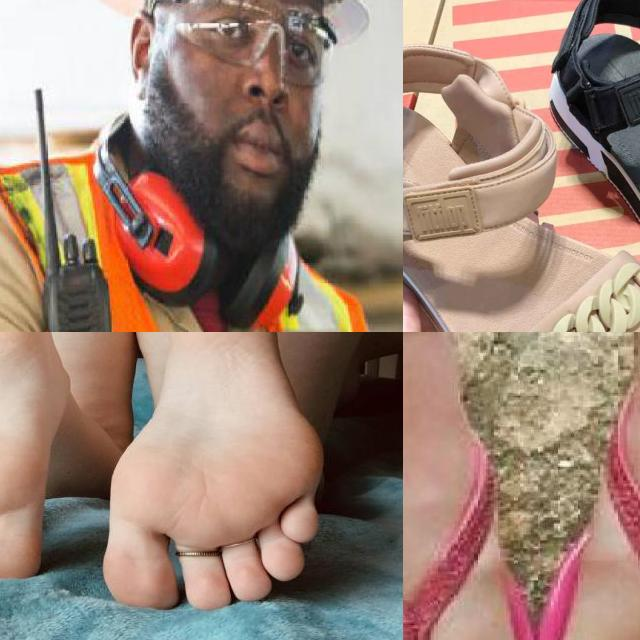Barefoots: (91, 332, 331, 619), (403, 332, 546, 640), (545, 332, 640, 640), (0, 332, 67, 587)
Ear-protection: (81, 106, 319, 331)
Sandals: (403, 15, 640, 332), (527, 0, 640, 332)
glasses: (171, 0, 343, 94)
head_helmet: (77, 0, 392, 45)
person: (0, 0, 403, 332)
vest: (0, 140, 379, 332)
